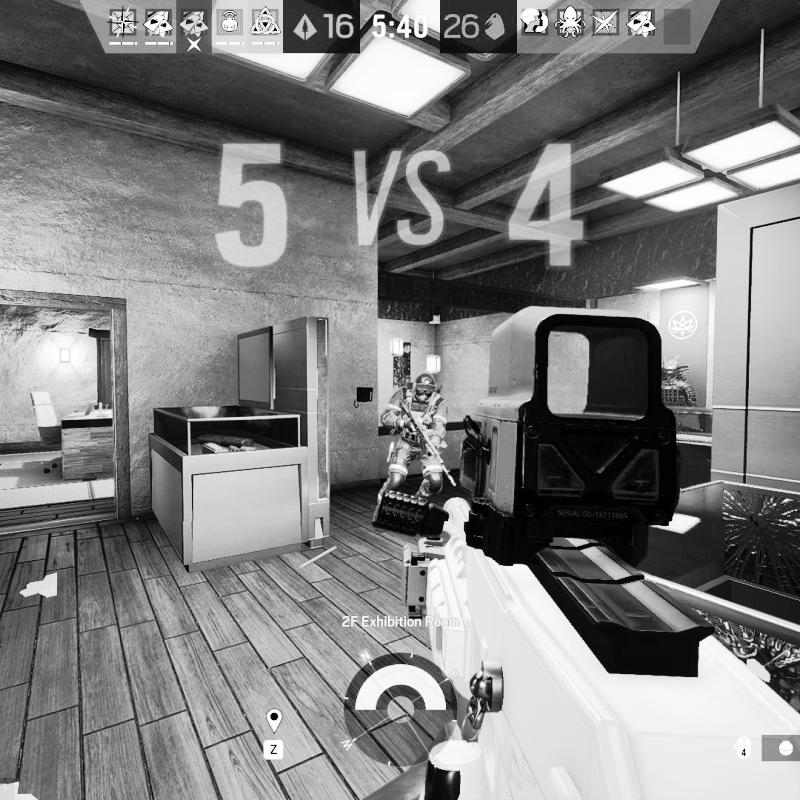Character: (372, 368, 453, 528)
Head: (411, 371, 439, 404)
